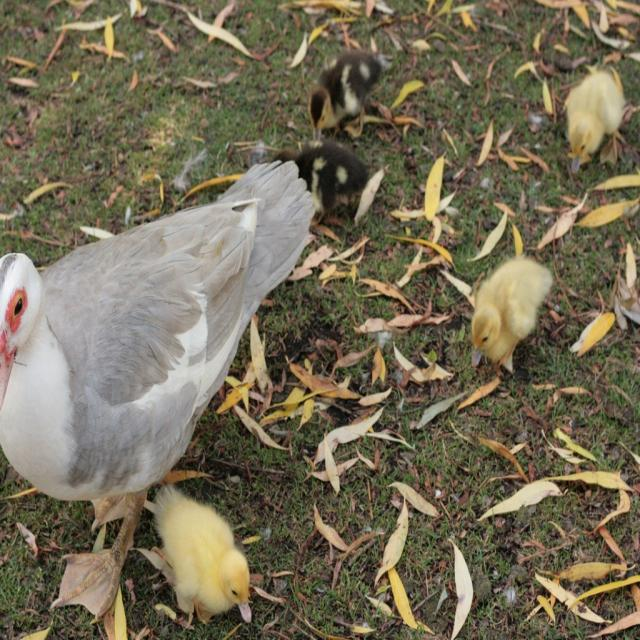Chicken: (478, 253, 563, 384)
